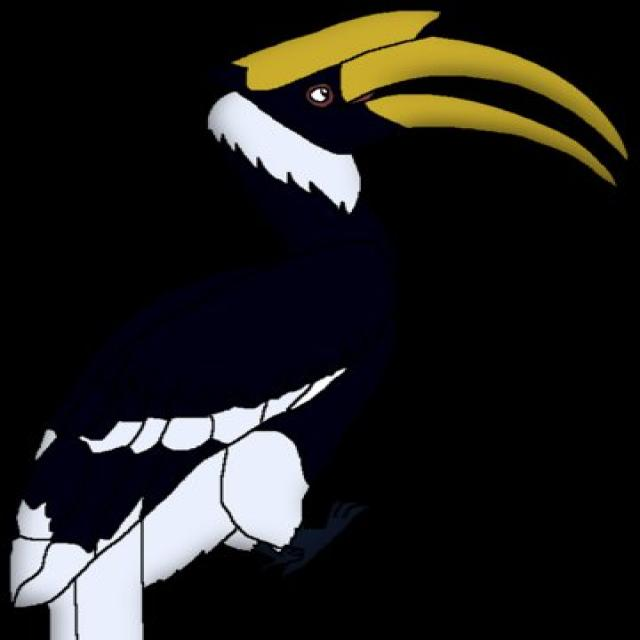Hornbill: (9, 7, 624, 640)
